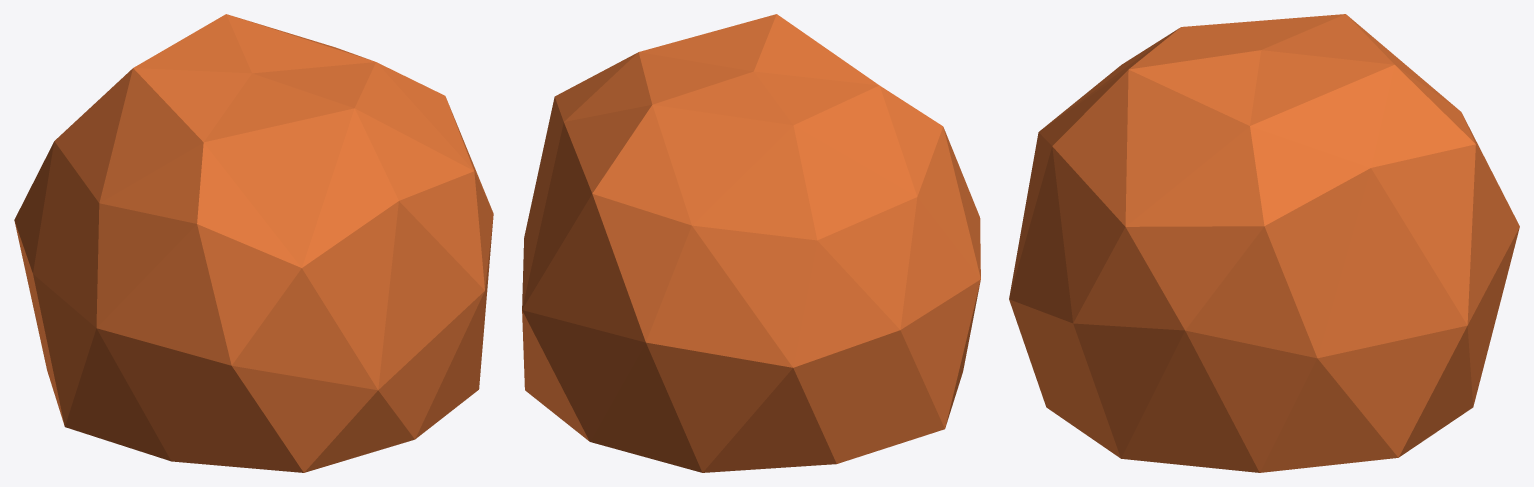
Rendered from SlimeFire.fbx.
3 views of the same model, side by side, from view 1: azimuth 30°, elevation 25°; view 2: azimuth 150°, elevation 25°; view 3: azimuth 270°, elevation 25° (orthographic). The views are drawn at different scales.
Visible parts, largest first — view 1: Slime; view 2: Slime; view 3: Slime.
Part boxes in pixels (x1,y1,x2,y2): Slime: (14,14,493,472); Slime: (522,14,980,472); Slime: (1009,14,1519,472).
Size of the model in its own units: 172 by 130 by 181.
